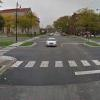Crosswalk: (15, 50, 100, 81)
